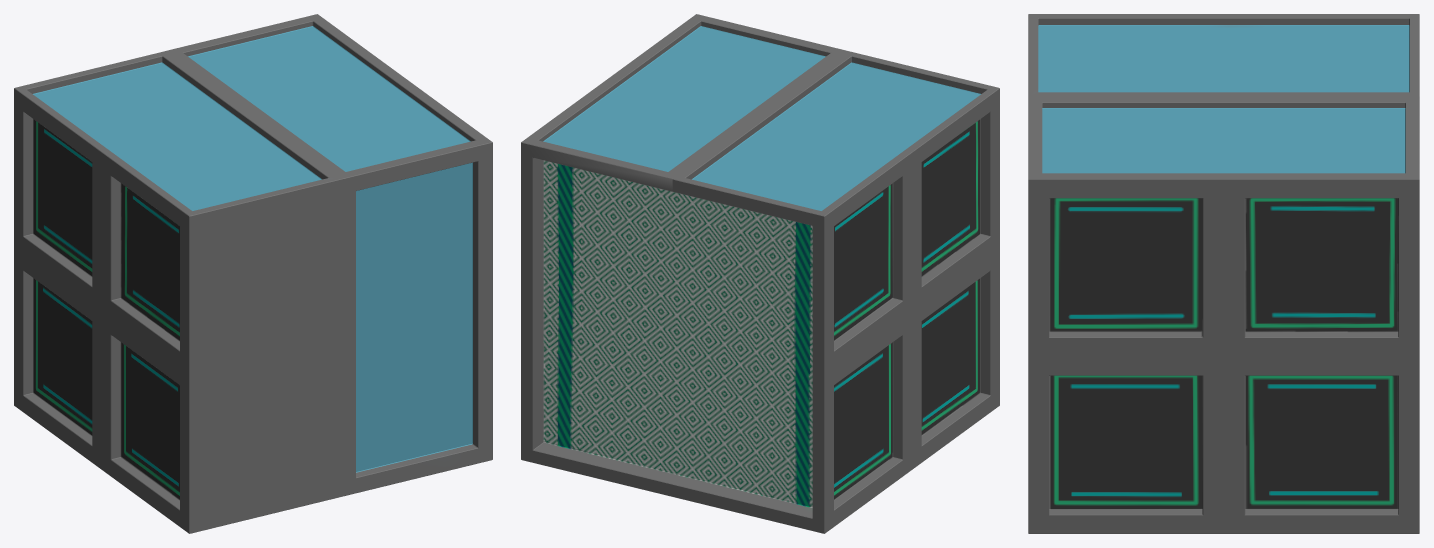
The model's file is SM_Construction.fbx.
3 renders of one model, left to right at view 1: azimuth 30°, elevation 25°; view 2: azimuth 150°, elevation 25°; view 3: azimuth 270°, elevation 25°, orthographic. The views are drawn at different scales.
Visible parts, largest first — view 1: SM_Construction; view 2: SM_Construction; view 3: SM_Construction.
Part boxes in pixels (x1,y1,x2,y2): SM_Construction: (14, 14, 492, 533); SM_Construction: (521, 14, 999, 533); SM_Construction: (1028, 14, 1419, 533).
Bounding box in the file's own units: 123 × 123 × 123.
Materials: 1 (1 with a texture image).
